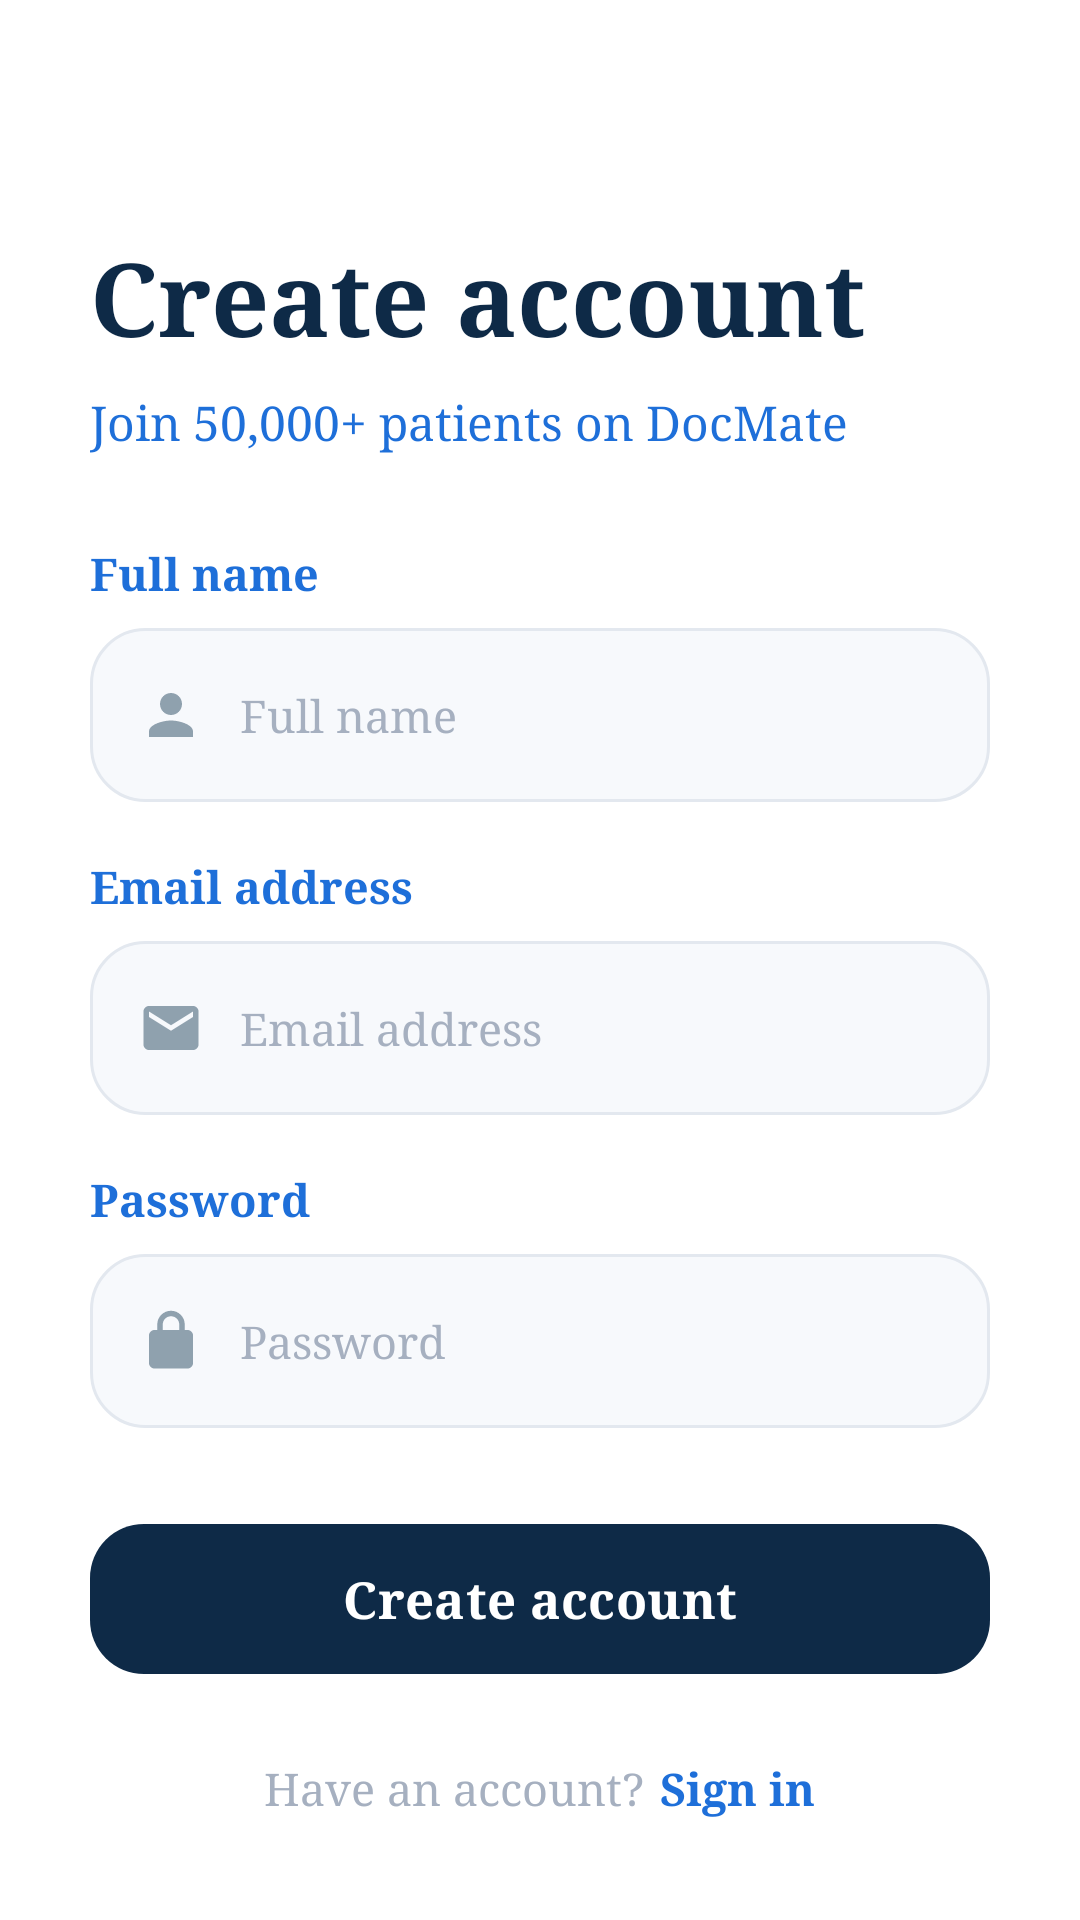

Icons on this 1080*1920 Android screen, each with the point to tap as (x=x, y=y):
lock: (x=171, y=1339)
person: (x=171, y=715)
